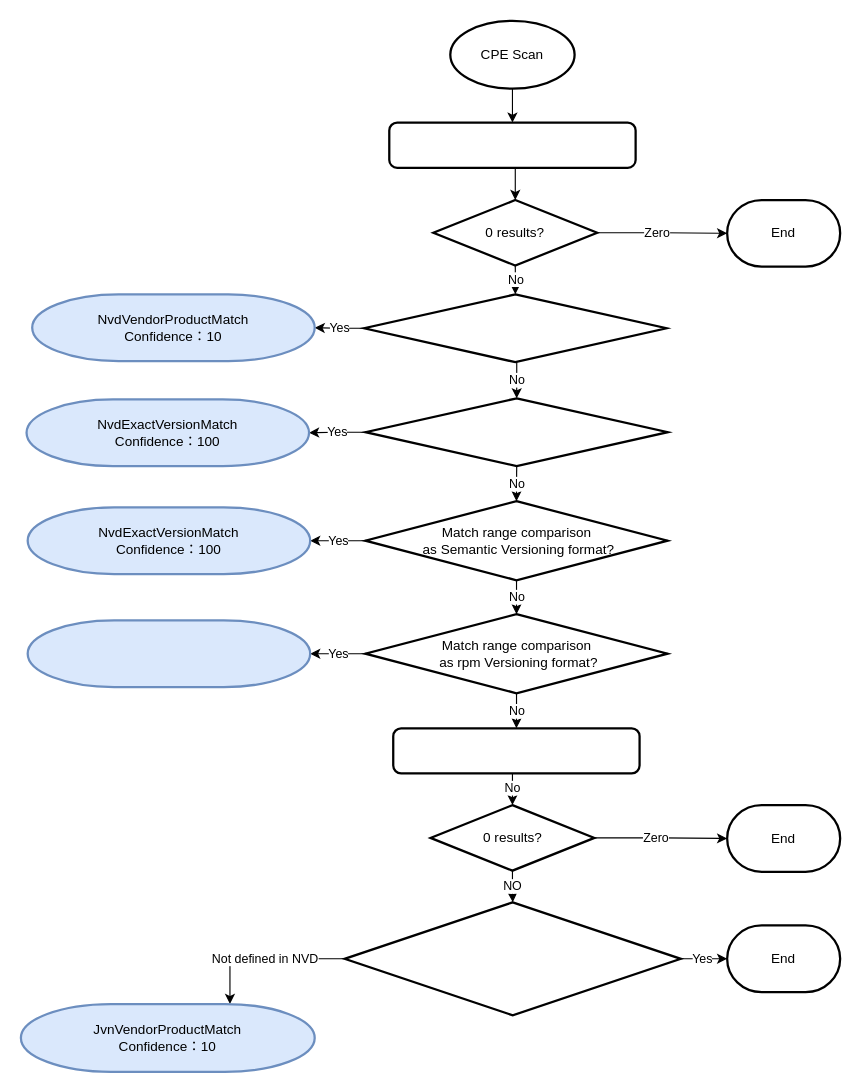
The diagram is 860 pixels wide and 1092 high, and some of its shapes have lost their labels. The centre of each missing label's shape, as x and y in pixels:
"Devide CPE into Part, Vendor, Product Search JVN" goes at pixel 516 750.
"Devide CPE into Part, Vendor, Product Search NVD" goes at pixel 512 144.
"Exact string match?" goes at pixel 516 432.
"Is the same Part, Vendor and Product also defined in NVD?" goes at pixel 512 958.
"No version for the specified CPE?" goes at pixel 515 328.
"NvdRoughVersionMatch Confidence：80" goes at pixel 168 653.
